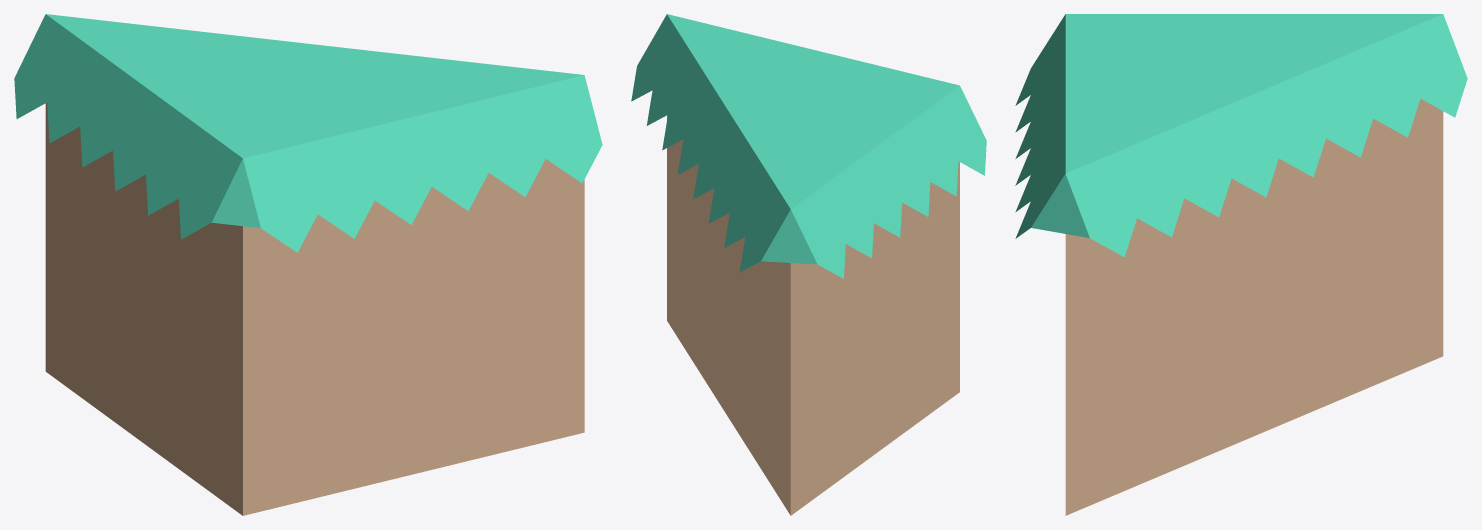
The model's file is blockCornerLarge.glb.
3 renders of one model, left to right at view 1: azimuth 30°, elevation 25°; view 2: azimuth 150°, elevation 25°; view 3: azimuth 270°, elevation 25°, orthographic. The views are drawn at different scales.
Parts seen in each view (by area): view 1: blockCornerLarge; view 2: blockCornerLarge; view 3: blockCornerLarge.
Boxes of the visible parts, <box> form: blockCornerLarge: <box>14,14,602,515</box>; blockCornerLarge: <box>631,14,986,515</box>; blockCornerLarge: <box>1015,14,1467,515</box>.
Size of the model in its own units: 1.2 by 1 by 1.2.
